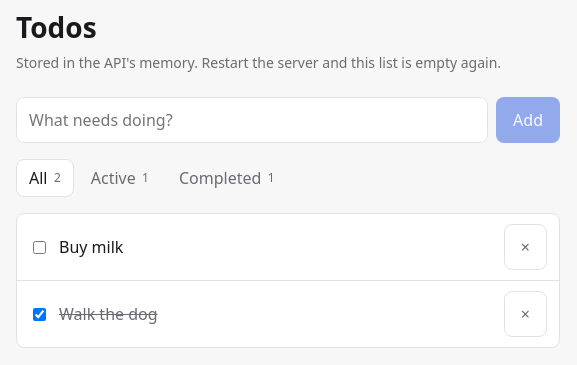
it: TodoApp › filters › shows only outstanding todos under Active
The width and height of the screenshot is (577, 365).
Click the tab "Active 1".
click(120, 178)  # box [78,159,162,197]
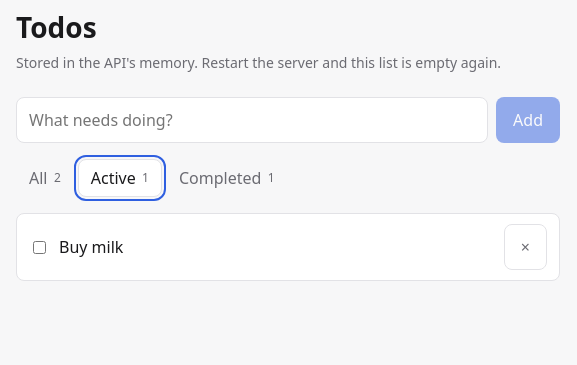
Check: the text "Buy milk" is shown, box [59,235,123,259]
Check: the text "Walk the dog" is gone
